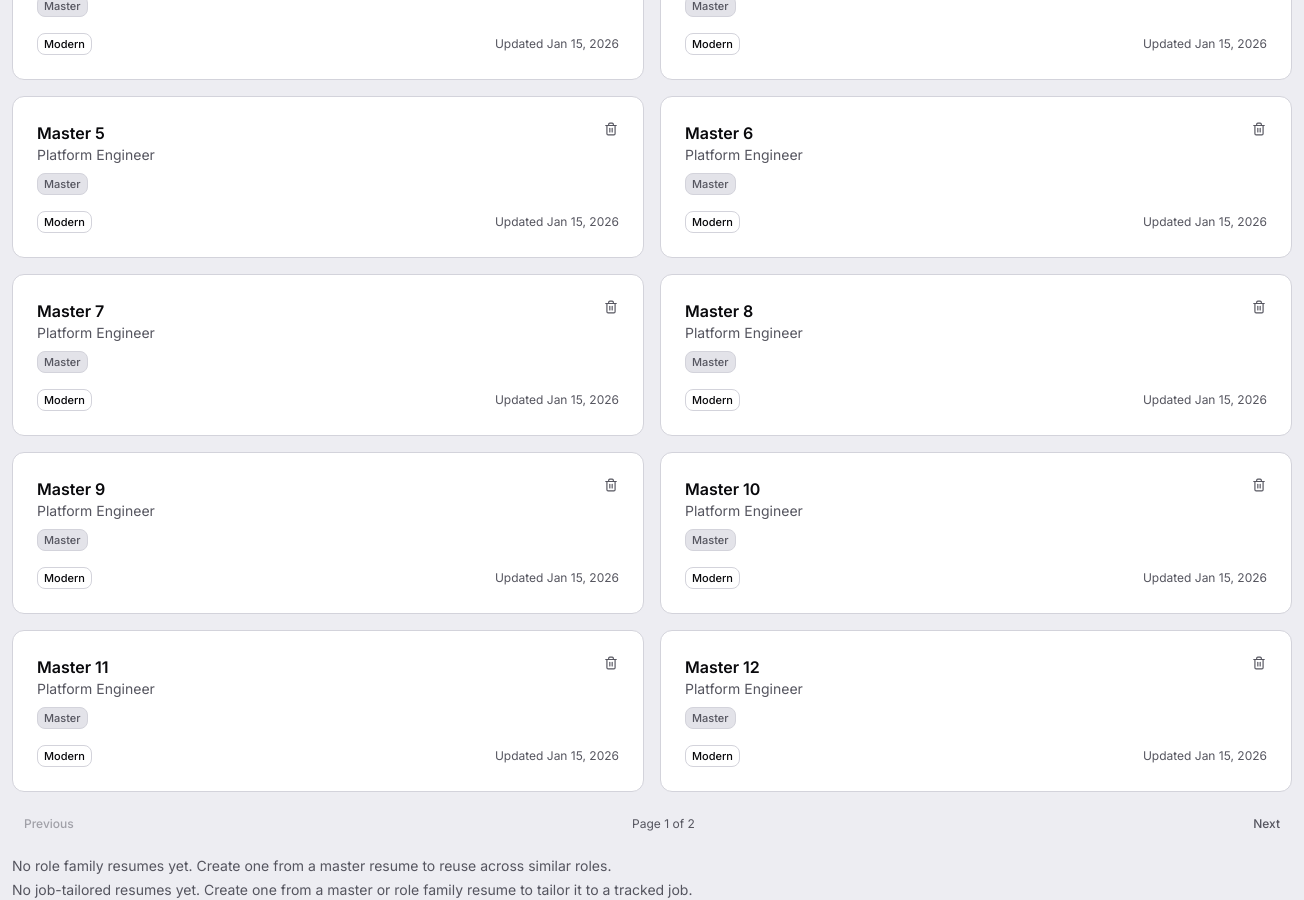
Test: ResumeBrowser paging › shows twelve per page with a range line and a pager
The width and height of the screenshot is (1304, 900).
(page scrolled)
Check: the link "Master 12" is shown, box [685,657,760,677]
Check: the link "Master 13" is not shown
Click the button "Next" at (1267, 824), box [1241,808,1292,840]
(page scrolled)
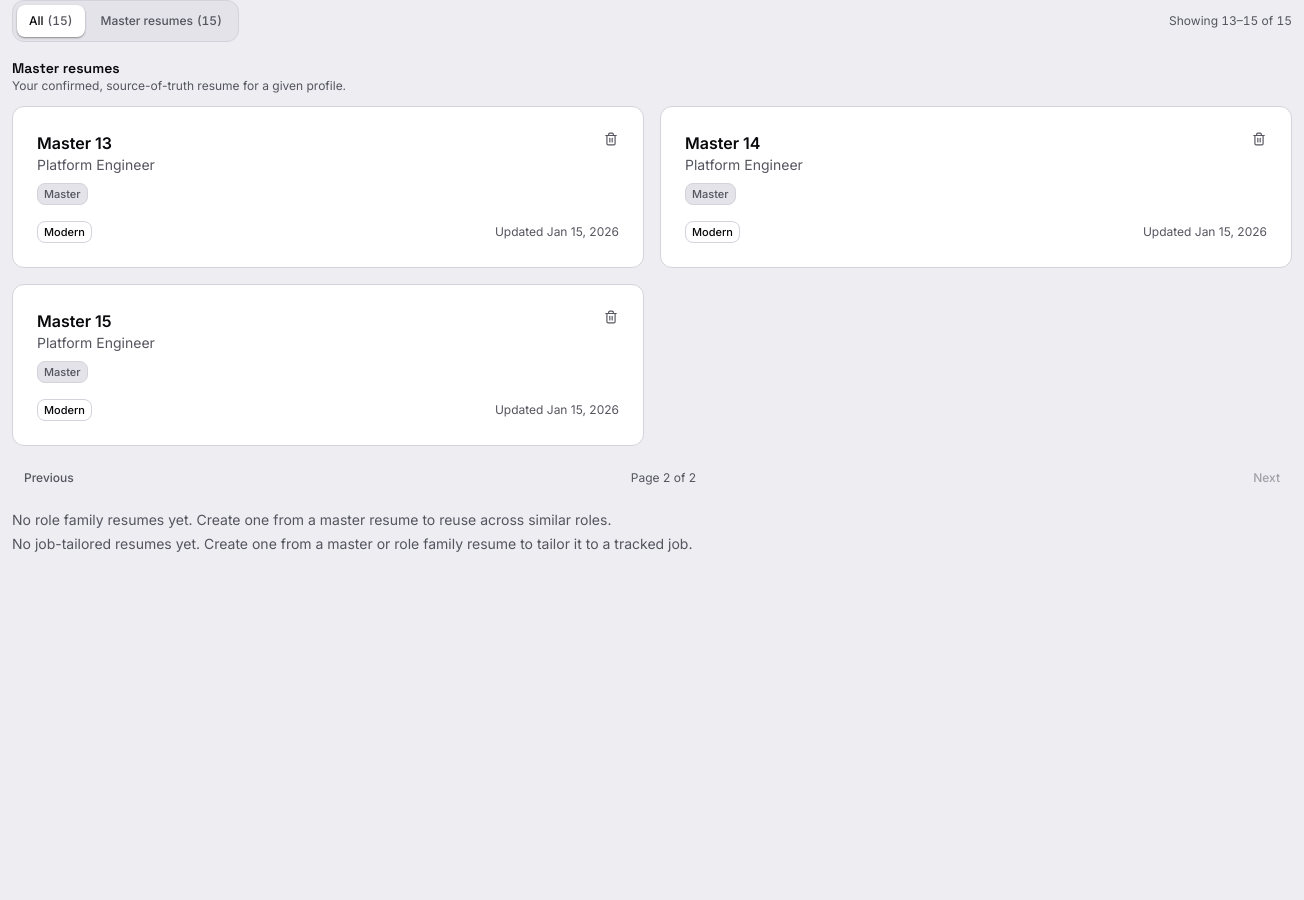
Check: the text "Showing 13–15 of 15" is shown, box [1169,13,1292,29]
Check: the link "Master 13" is shown, box [37,133,112,153]
